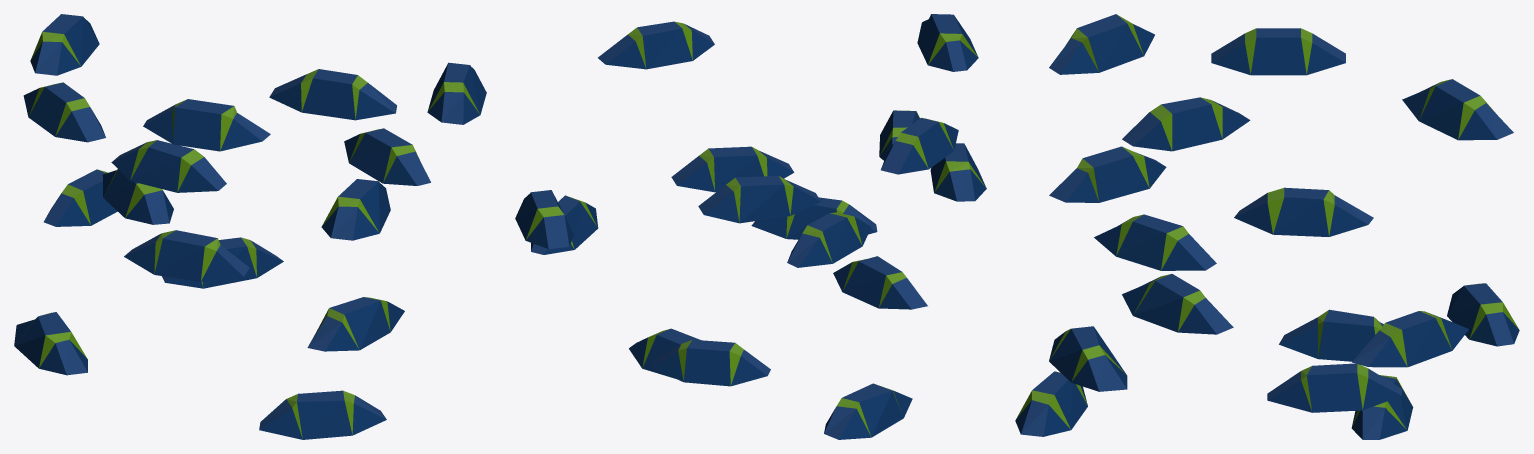
File: harpie_bug_swarm.gltf
The picture shows the model from 3 angles, left to right: view 1: azimuth 30°, elevation 25°; view 2: azimuth 150°, elevation 25°; view 3: azimuth 270°, elevation 25°; orthographic projection. The views are drawn at different scales.
Bounding box in the file's own units: 86 × 67 × 90.
Materials: 1 (1 with a texture image).
